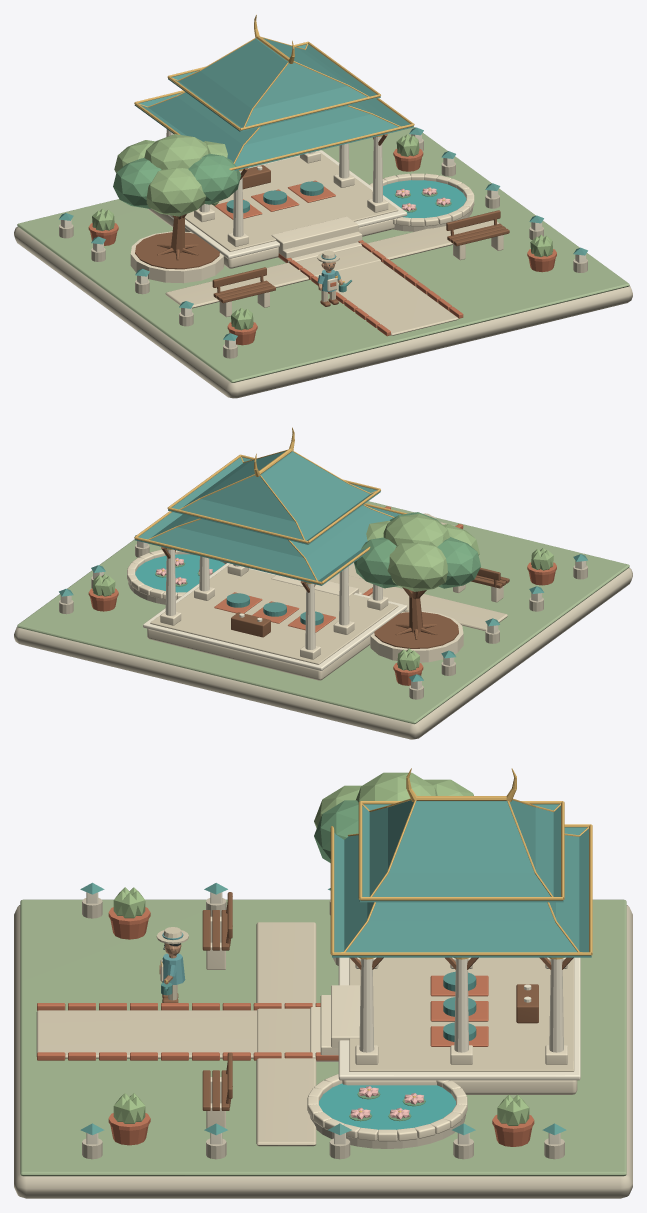
File: living_temple_scene.glb
The picture shows the model from 3 angles, top to bottom: view 1: azimuth 30°, elevation 25°; view 2: azimuth 150°, elevation 25°; view 3: azimuth 270°, elevation 25°; orthographic projection. The views are drawn at different scales.
Visible parts, largest first — view 1: Courtyard, Thai_Pavilion, Bodhi_Inspired_Tree, Lotus_Pond, Garden_Planting, Garden_Bench, AI_Gardener_NPC; view 2: Courtyard, Thai_Pavilion, Bodhi_Inspired_Tree, Lotus_Pond, Garden_Planting, Garden_Bench; view 3: Courtyard, Thai_Pavilion, Lotus_Pond, Garden_Planting, Bodhi_Inspired_Tree, Garden_Bench, AI_Gardener_NPC.
Boxes of the visible parts, left/top/right/bottom form: Courtyard: left=14, top=127, right=632, bottom=398; Thai_Pavilion: left=134, top=14, right=414, bottom=268; Bodhi_Inspired_Tree: left=113, top=134, right=241, bottom=283; Lotus_Pond: left=369, top=173, right=474, bottom=231; Garden_Planting: left=88, top=134, right=556, bottom=345; Garden_Bench: left=212, top=210, right=509, bottom=317; AI_Gardener_NPC: left=317, top=250, right=351, bottom=306; Courtyard: left=14, top=501, right=632, bottom=739; Thai_Pavilion: left=134, top=427, right=407, bottom=680; Bodhi_Inspired_Tree: left=354, top=512, right=480, bottom=662; Lotus_Pond: left=127, top=550, right=226, bottom=604; Garden_Planting: left=88, top=548, right=556, bottom=685; Garden_Bench: left=453, top=567, right=509, bottom=602; Courtyard: left=14, top=882, right=632, bottom=1198; Thai_Pavilion: left=310, top=768, right=592, bottom=1094; Lotus_Pond: left=307, top=1074, right=467, bottom=1148; Garden_Planting: left=108, top=887, right=534, bottom=1146; Bodhi_Inspired_Tree: left=314, top=772, right=473, bottom=965; Garden_Bench: left=202, top=892, right=232, bottom=1128; AI_Gardener_NPC: left=156, top=927, right=188, bottom=1002.
Size of the model in its own units: 16 by 7.9 by 15.
